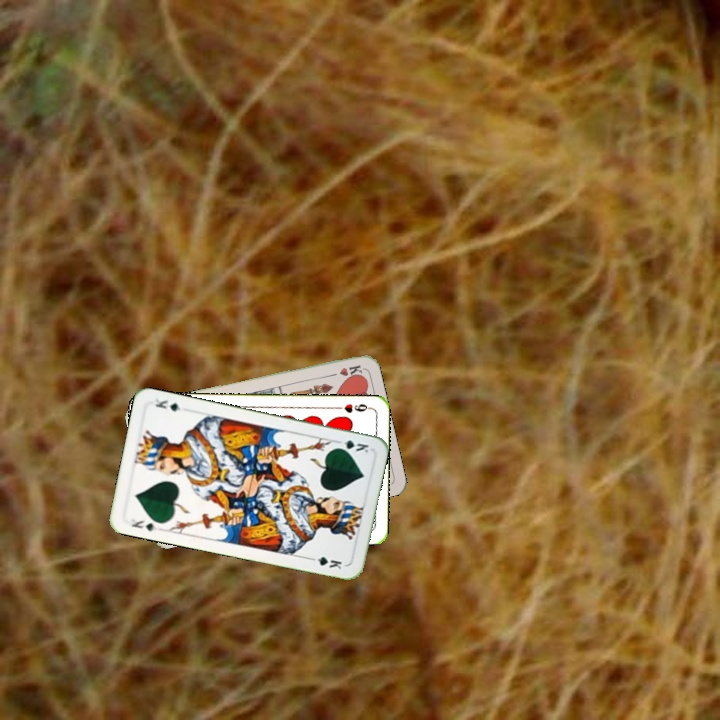GK: (331, 436, 371, 455), (128, 514, 160, 535)
H9: (333, 400, 373, 415)
HK: (324, 361, 364, 380)
